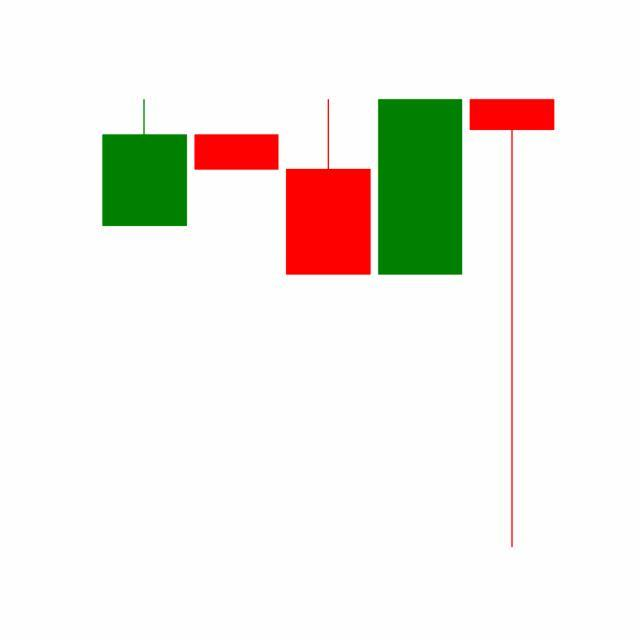Marubozu: (374, 97, 468, 277)
